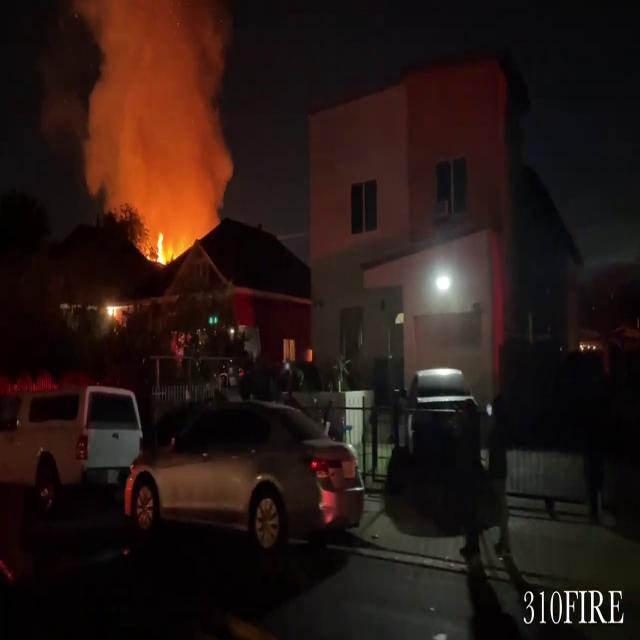Smoke: (79, 1, 239, 234)
